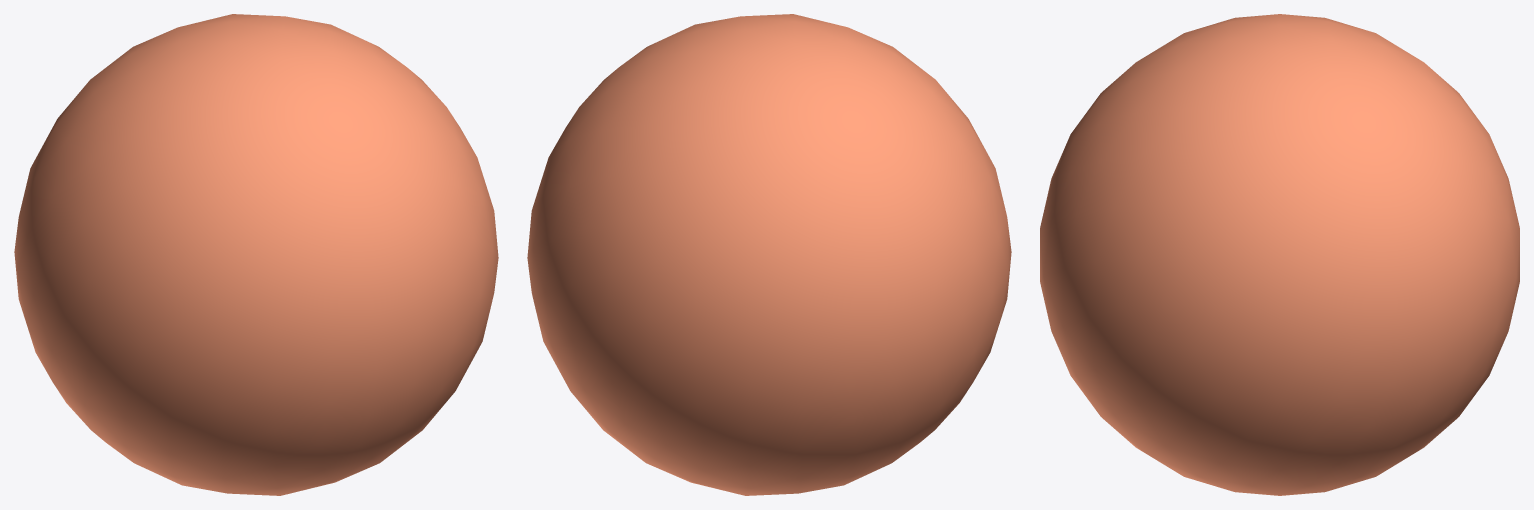
Rendered from mars.glb.
3 renders of one model, left to right at view 1: azimuth 30°, elevation 25°; view 2: azimuth 150°, elevation 25°; view 3: azimuth 270°, elevation 25°, orthographic.
Parts seen in each view (by area): view 1: Mars_Planet; view 2: Mars_Planet; view 3: Mars_Planet.
Part boxes in pixels (bbox=[...]): Mars_Planet: bbox=[14, 14, 498, 495]; Mars_Planet: bbox=[527, 14, 1011, 495]; Mars_Planet: bbox=[1040, 14, 1519, 495].
Size of the model in its own units: 4.45 by 4.45 by 4.45.
